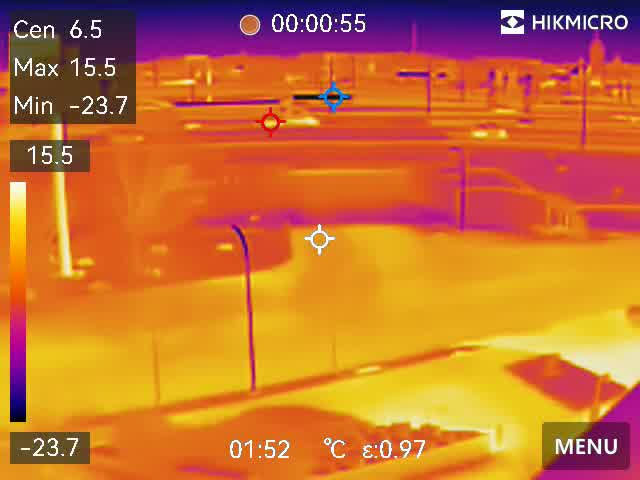heavyTruck: (166, 97, 328, 131)
vehicle: (466, 121, 515, 144)
